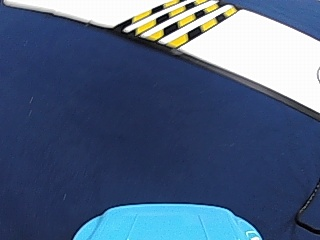bump: (112, 3, 215, 49)
